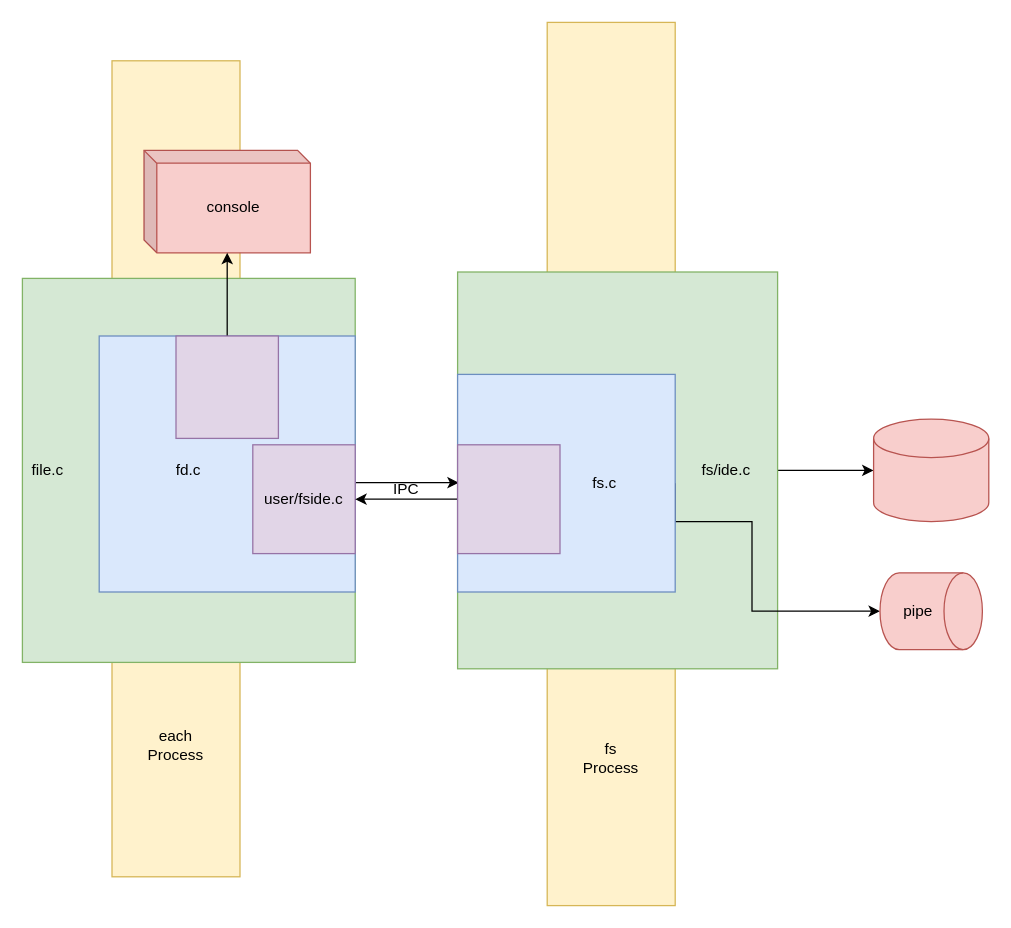
Some shapes in this 1011 by 928 pixel diagram are drawn without their labels. Each missing label, with the box of its shape:
console.c: (175, 335, 278, 438)
fs/serve.c: (456, 444, 560, 554)
IDE: (872, 418, 989, 522)
